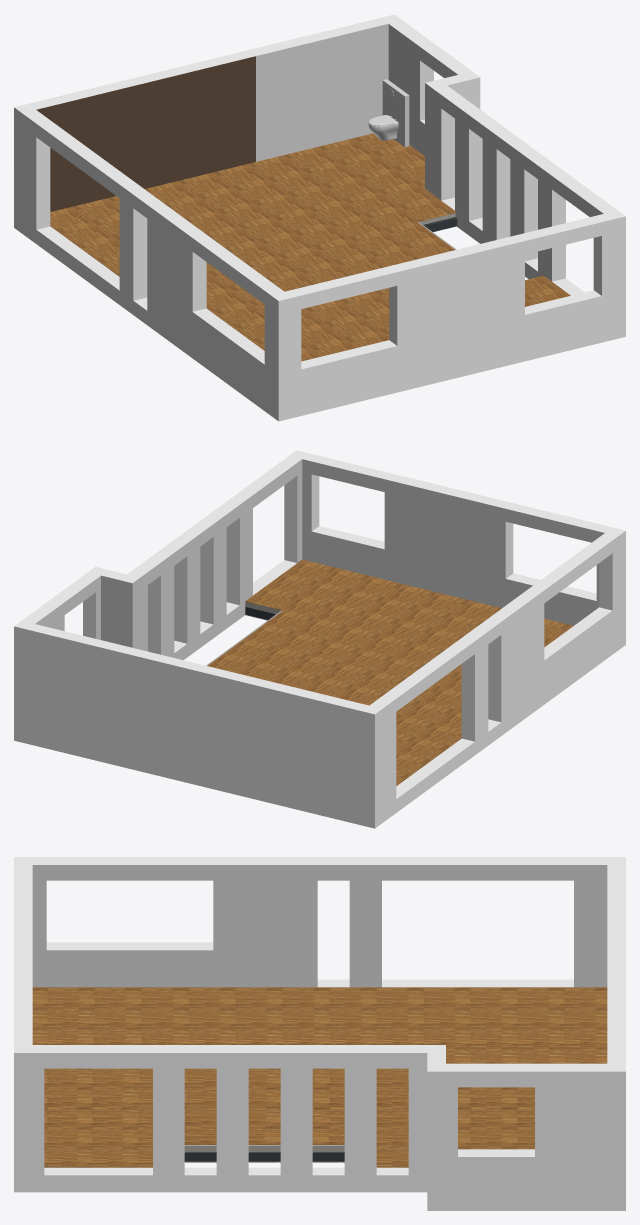
The picture shows the model from 3 angles, top to bottom: view 1: azimuth 30°, elevation 25°; view 2: azimuth 150°, elevation 25°; view 3: azimuth 270°, elevation 25°; orthographic projection. The views are drawn at different scales.
Visible parts, largest first — view 1: OG.002, Boden.Parkett.001, toilet.006; view 2: OG.002, Boden.Parkett.001; view 3: OG.002, Boden.Parkett.001, Metall-Träger-Schicht.001, Boden.Orig.001.
Boxes of the visible parts, x1,y1,x2,y2 form: OG.002: (14,14,625,421); Boden.Parkett.001: (50,133,570,361); toilet.006: (368,79,409,146); OG.002: (14,450,625,828); Boden.Parkett.001: (208,559,573,785); OG.002: (14,857,625,1210); Boden.Parkett.001: (32,987,607,1167); Metall-Träger-Schicht.001: (184,1152,344,1161); Boden.Orig.001: (184,1145,344,1162).
Bounding box in the file's own units: 9.92 × 3 × 11.95.
Materials: 8 (1 with a texture image).
